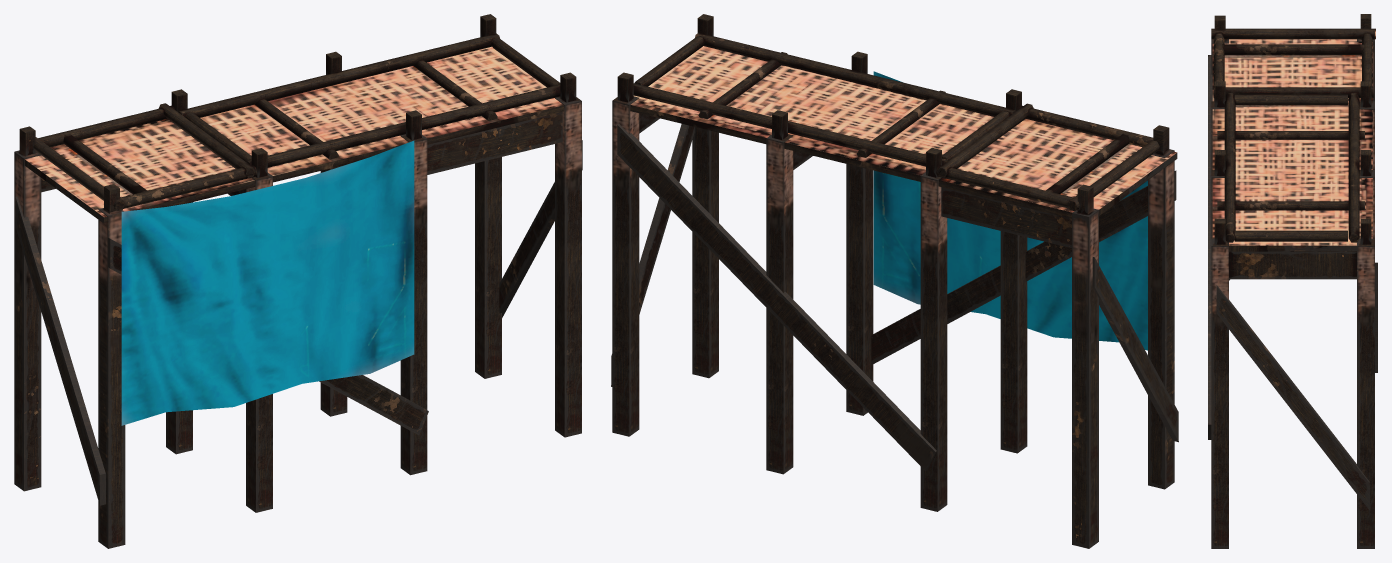
Rendered from Construction.fbx.
The picture shows the model from 3 angles, left to right: view 1: azimuth 30°, elevation 25°; view 2: azimuth 150°, elevation 25°; view 3: azimuth 270°, elevation 25°; orthographic projection. The views are drawn at different scales.
Parts seen in each view (by area): view 1: Plane.062, Cube.044, Cube.047, Cylinder.011, Cube.052, Cube.050, Cylinder.014, Cube.049, Cylinder.013, Cube.051, Cylinder.012, Cylinder.017 (+2 smaller); view 2: Cube.044, Cube.047, Plane.062, Cube.048, Cylinder.011, Cube.049, Cube.046, Cube.052, Cylinder.014, Cylinder.013, Cube.051, Cylinder.012 (+3 smaller); view 3: Cube.047, Cube.044, Cube.051, Cube.045, Cylinder.011, Cylinder.013, Cylinder.012, Cylinder.017, Cube.049, Cylinder.015, Cylinder.016, Cylinder.014 (+1 smaller).
Boxes of the visible parts, <box> form: Plane.062: <box>121,140,414,425</box>; Cube.044: <box>14,14,581,548</box>; Cube.047: <box>24,46,563,223</box>; Cylinder.011: <box>178,33,560,167</box>; Cube.052: <box>15,196,105,505</box>; Cube.050: <box>427,112,562,174</box>; Cylinder.014: <box>38,105,257,208</box>; Cube.049: <box>108,238,428,435</box>; Cylinder.013: <box>33,103,255,210</box>; Cube.051: <box>499,140,582,317</box>; Cylinder.012: <box>185,37,560,161</box>; Cylinder.017: <box>63,134,147,194</box>; Cube.044: <box>612,14,1174,548</box>; Cube.047: <box>630,46,1177,218</box>; Plane.062: <box>873,71,1147,350</box>; Cube.048: <box>617,124,936,471</box>; Cylinder.011: <box>633,32,1015,166</box>; Cube.049: <box>871,170,1176,364</box>; Cube.046: <box>941,187,1071,248</box>; Cube.052: <box>1092,257,1178,442</box>; Cylinder.014: <box>936,105,1153,210</box>; Cylinder.013: <box>937,103,1159,210</box>; Cube.051: <box>611,124,694,386</box>; Cylinder.012: <box>634,36,1009,160</box>; Cube.047: <box>1212,39,1372,251</box>; Cube.044: <box>1211,14,1374,548</box>; Cube.051: <box>1216,285,1370,510</box>; Cube.045: <box>1229,251,1356,279</box>; Cylinder.011: <box>1224,93,1359,242</box>; Cylinder.013: <box>1211,28,1375,97</box>; Cylinder.012: <box>1234,94,1347,241</box>; Cylinder.017: <box>1222,44,1364,55</box>; Cube.049: <box>1208,55,1212,439</box>; Cylinder.015: <box>1217,201,1364,210</box>; Cylinder.016: <box>1217,131,1364,139</box>; Cylinder.014: <box>1213,33,1372,98</box>.
Size of the model in its own units: 550 by 387 by 185.
